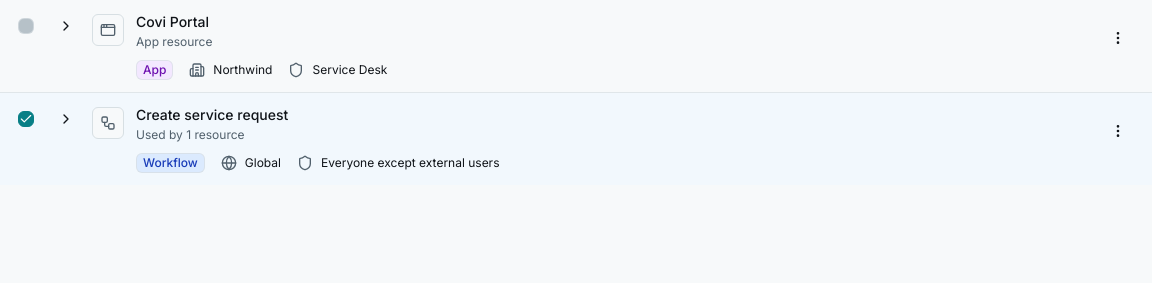
Test case: shares selected state when the same resource appears as root and related
Click the button named "Expand Covi Portal" at coordinates (66, 26), box [52,12,80,40]
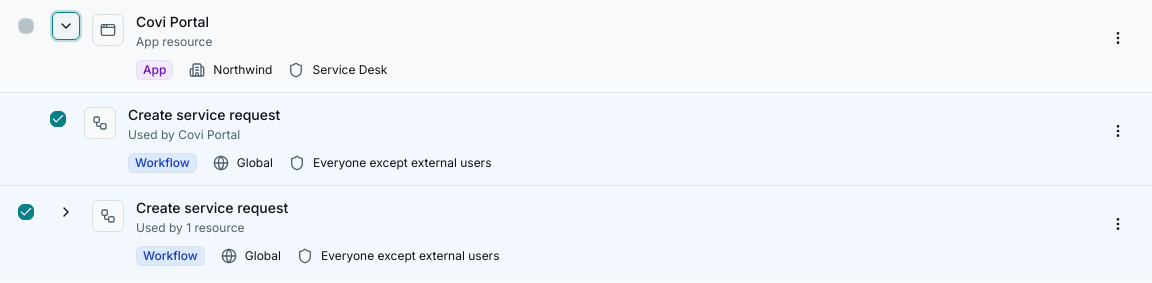
Expected: the 2nd checkbox named "Select Create service request" is checked, [18,204,34,220]
Expected: the 1st checkbox named "Select Create service request" is checked, [50,111,66,127]
